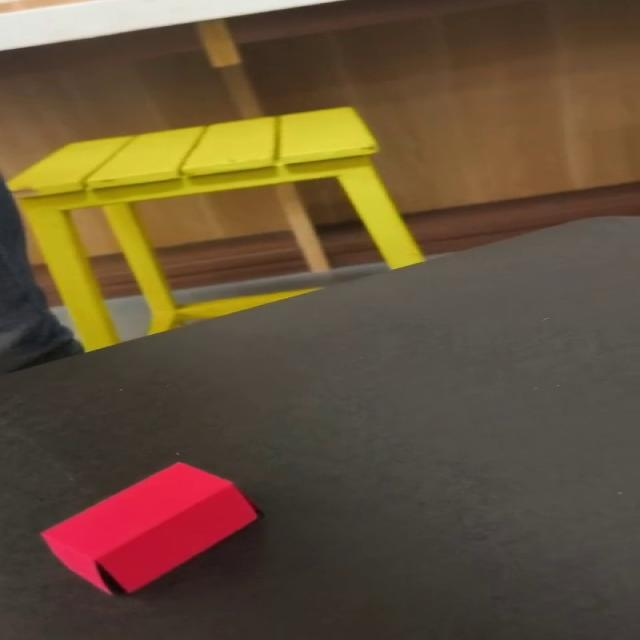red block: (39, 460, 260, 596)
